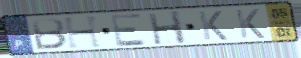B: (30, 17, 69, 51)
E: (108, 12, 149, 48)
H: (146, 9, 189, 46), (61, 14, 105, 50)
K: (196, 10, 230, 41), (233, 8, 267, 39)
